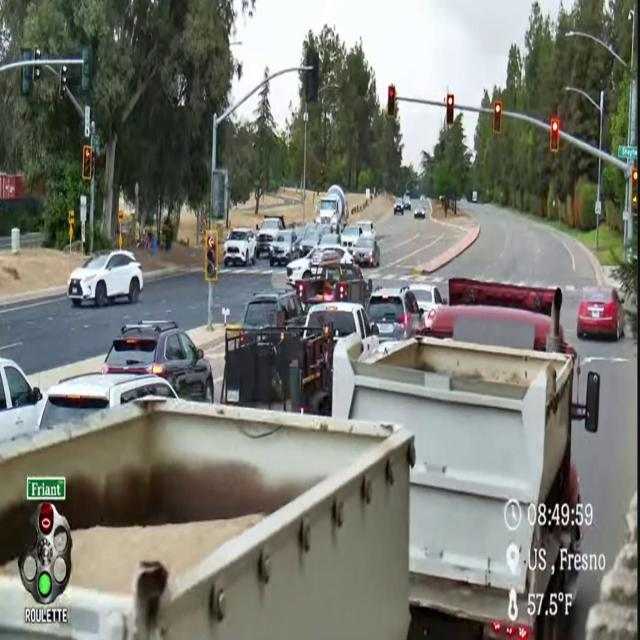car: (423, 279, 556, 351), (101, 320, 213, 403), (37, 373, 177, 430), (67, 249, 143, 307), (305, 302, 378, 351), (0, 358, 42, 441), (366, 286, 422, 342), (287, 246, 353, 286), (577, 287, 624, 339), (242, 290, 304, 328), (409, 283, 447, 327), (223, 228, 256, 266), (256, 216, 285, 257), (269, 229, 299, 267), (352, 236, 379, 267), (299, 225, 321, 256), (340, 225, 362, 249), (318, 233, 341, 247), (357, 221, 375, 238), (414, 202, 425, 219), (394, 198, 403, 215), (403, 192, 411, 211)
traffic signal: (305, 49, 319, 103), (205, 229, 218, 282), (21, 48, 33, 95), (82, 145, 94, 181), (82, 47, 91, 93), (550, 118, 559, 152), (387, 85, 396, 119), (493, 101, 502, 134), (631, 168, 637, 216), (59, 65, 67, 99), (446, 94, 454, 126), (32, 64, 41, 80)
truck: (0, 336, 587, 639), (0, 399, 414, 639), (332, 320, 599, 639), (221, 323, 335, 415), (295, 251, 372, 311), (318, 184, 347, 233), (256, 216, 285, 257), (472, 191, 477, 203)
